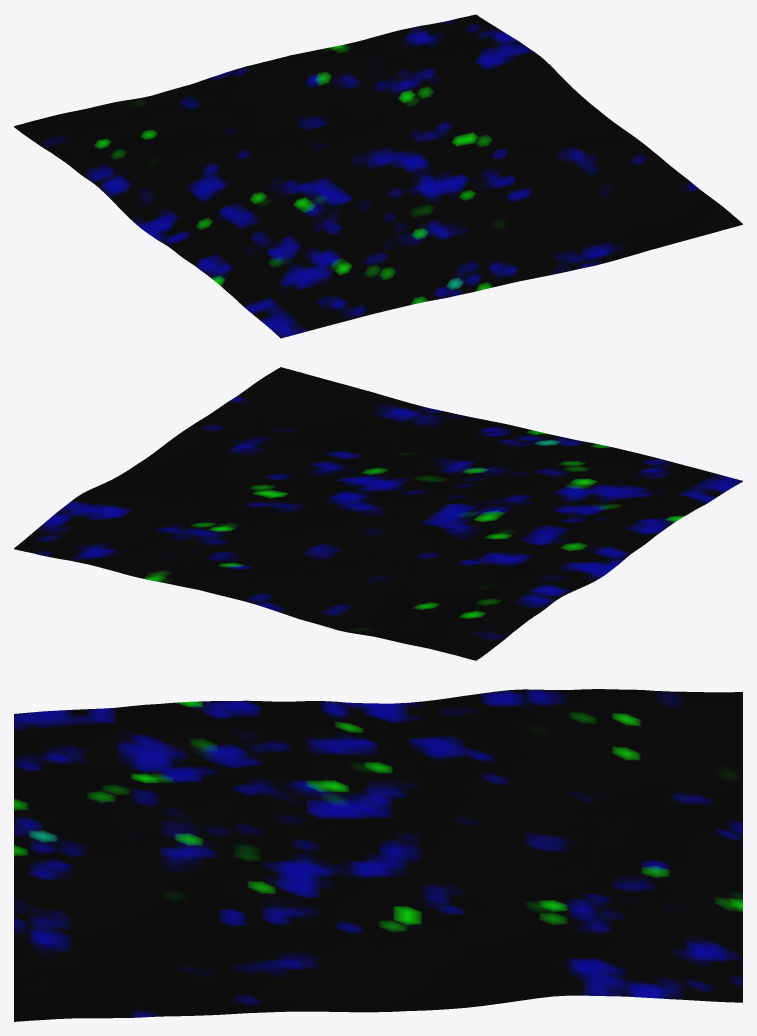
File: coast_800_-2400_800.glb
3 renders of one model, top to bottom at view 1: azimuth 30°, elevation 25°; view 2: azimuth 150°, elevation 25°; view 3: azimuth 270°, elevation 25°, orthographic. The views are drawn at different scales.
Parts seen in each view (by area): view 1: terrain; view 2: terrain; view 3: terrain.
Part boxes in pixels (x1,y1,x2,y2): terrain: (14, 14, 742, 338); terrain: (14, 367, 742, 660); terrain: (14, 689, 742, 1021).
Bounding box in the file's own units: 800 × 45.86 × 800.
